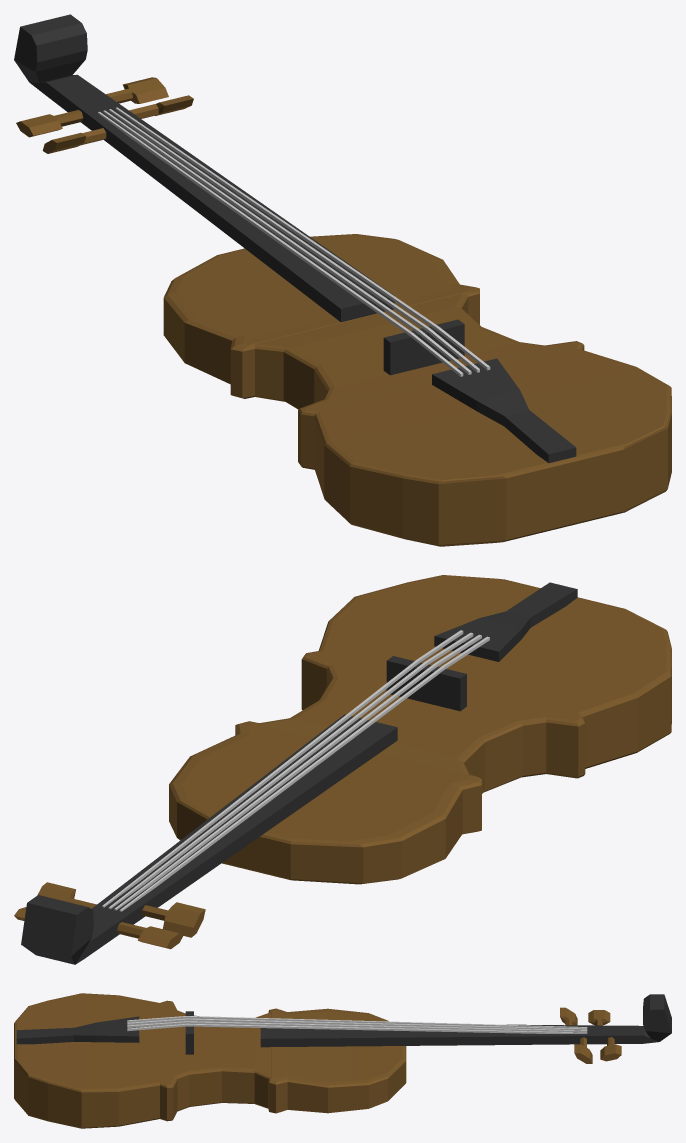
Rendered from ViolinUV.fbx.
3 views of the same model, one above another, from view 1: azimuth 30°, elevation 25°; view 2: azimuth 150°, elevation 25°; view 3: azimuth 270°, elevation 25° (orthographic). The views are drawn at different scales.
Visible parts, largest first — view 1: Cube; view 2: Cube; view 3: Cube.
Boxes of the visible parts, <box> form: Cube: <box>14,14,671,546</box>; Cube: <box>14,575,671,964</box>; Cube: <box>14,993,671,1128</box>.
Size of the model in its own units: 91.83 by 34.88 by 259.
